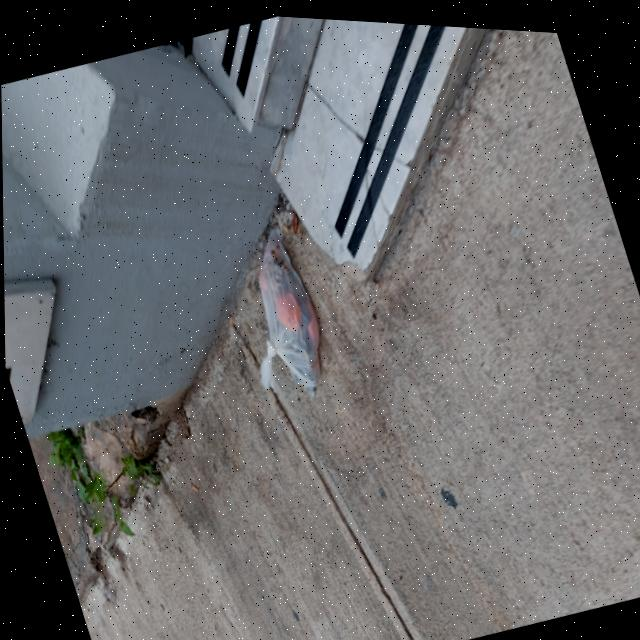Organic Waste -White Bag-: (213, 210, 349, 422)
